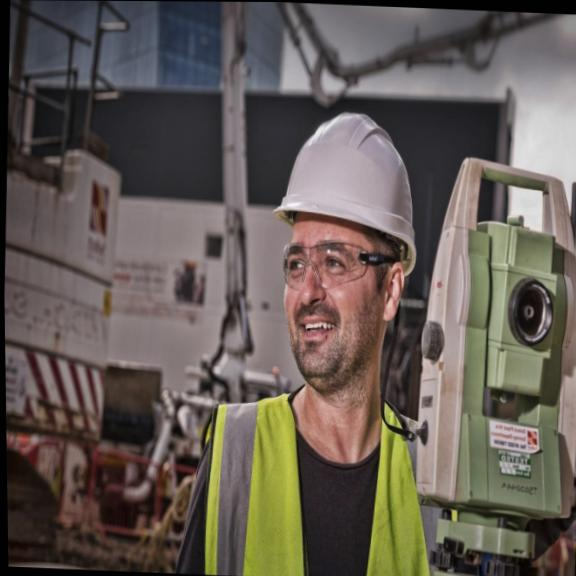safety_vest: (205, 383, 427, 576)
